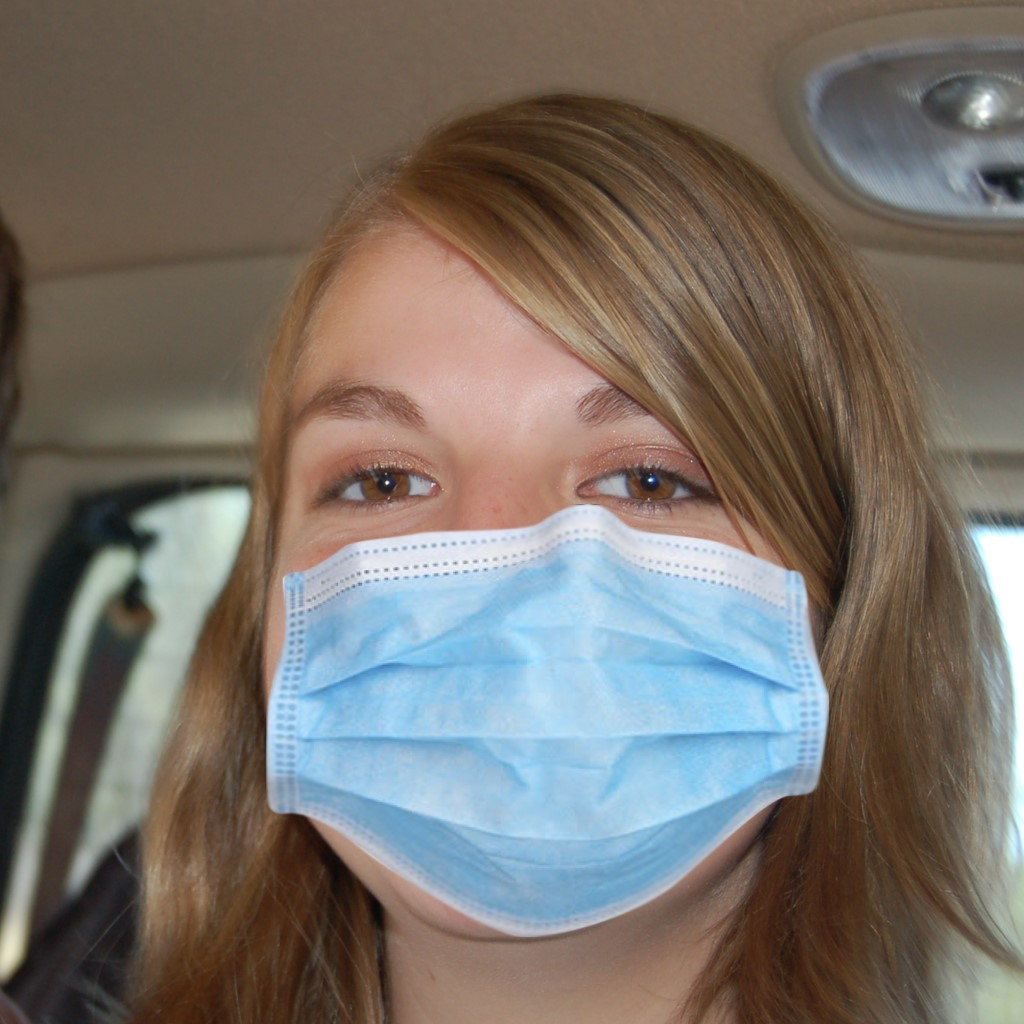con_mascara: (266, 193, 826, 936)
